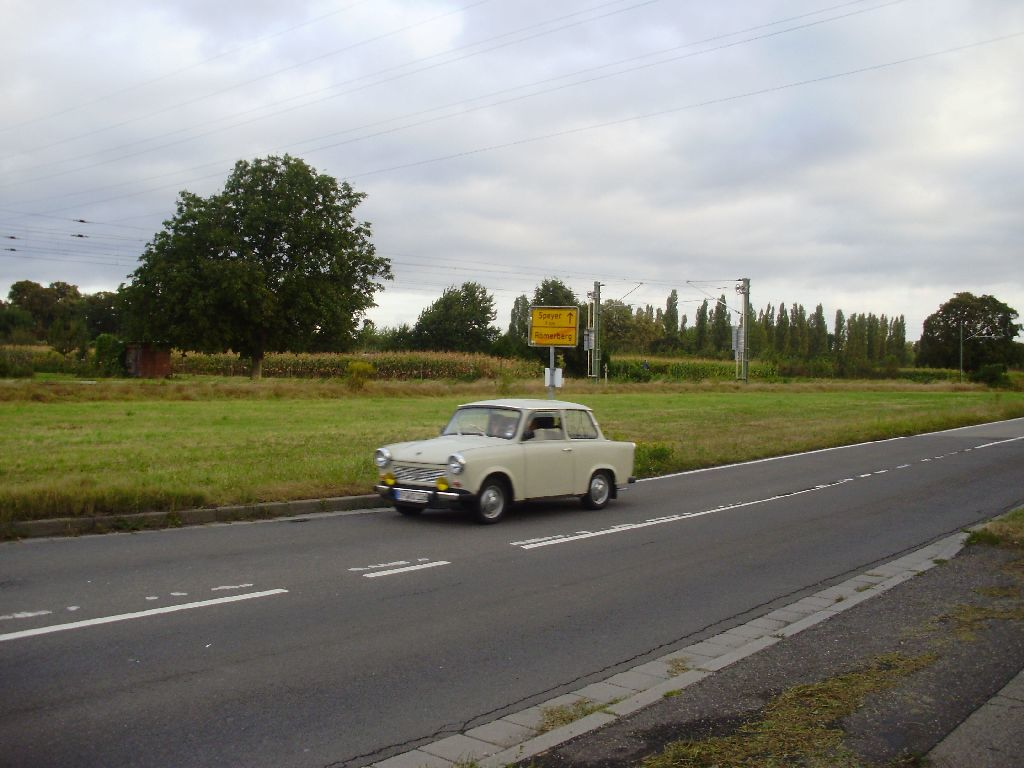Car: (369, 392, 641, 528)
